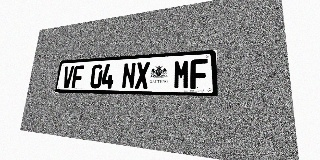0: (90, 64, 103, 88)
4: (101, 64, 115, 88)
F: (190, 59, 208, 89), (71, 65, 84, 88)
M: (173, 59, 190, 89)
N: (121, 62, 136, 89)
V: (62, 66, 74, 88)
X: (135, 62, 150, 89)
